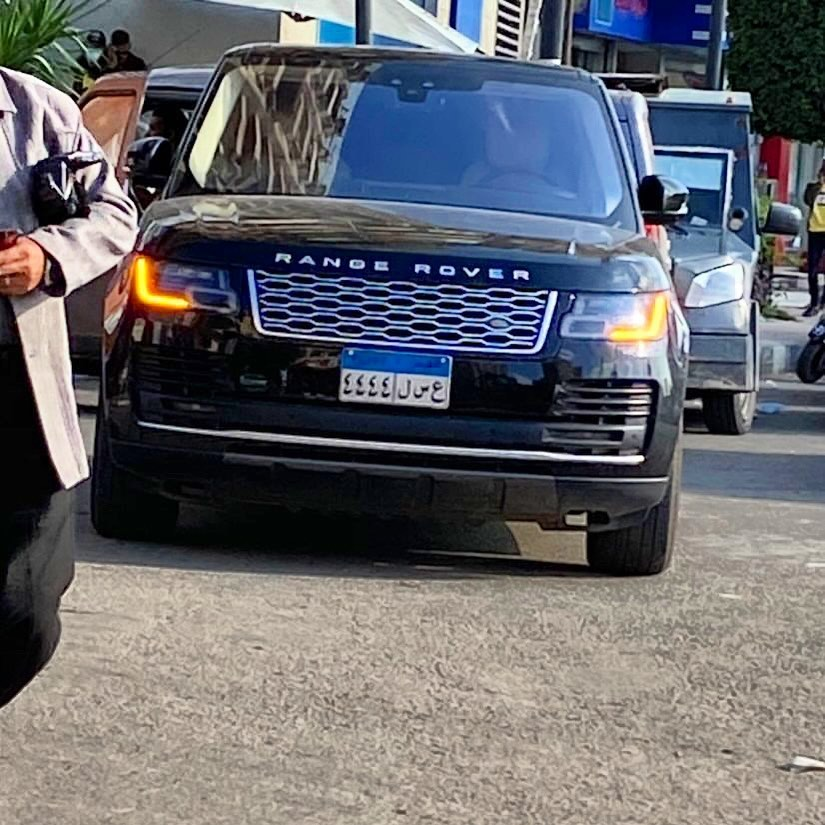carpl: (325, 335, 462, 414)
